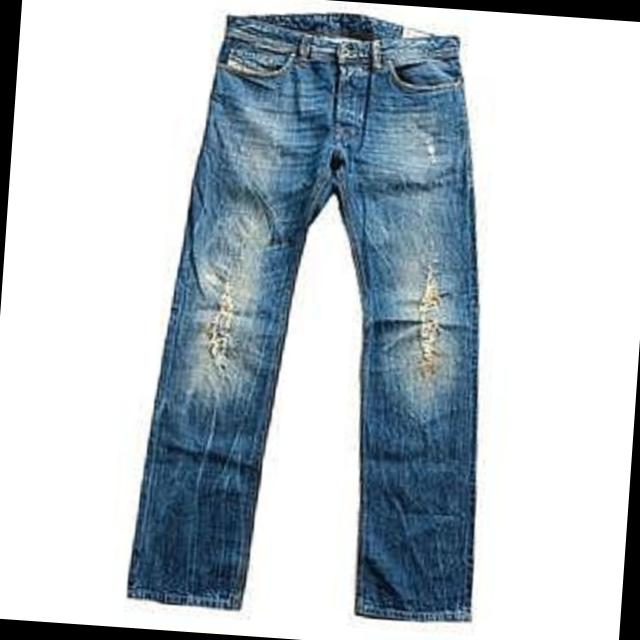TROUSER: (93, 0, 554, 633)
